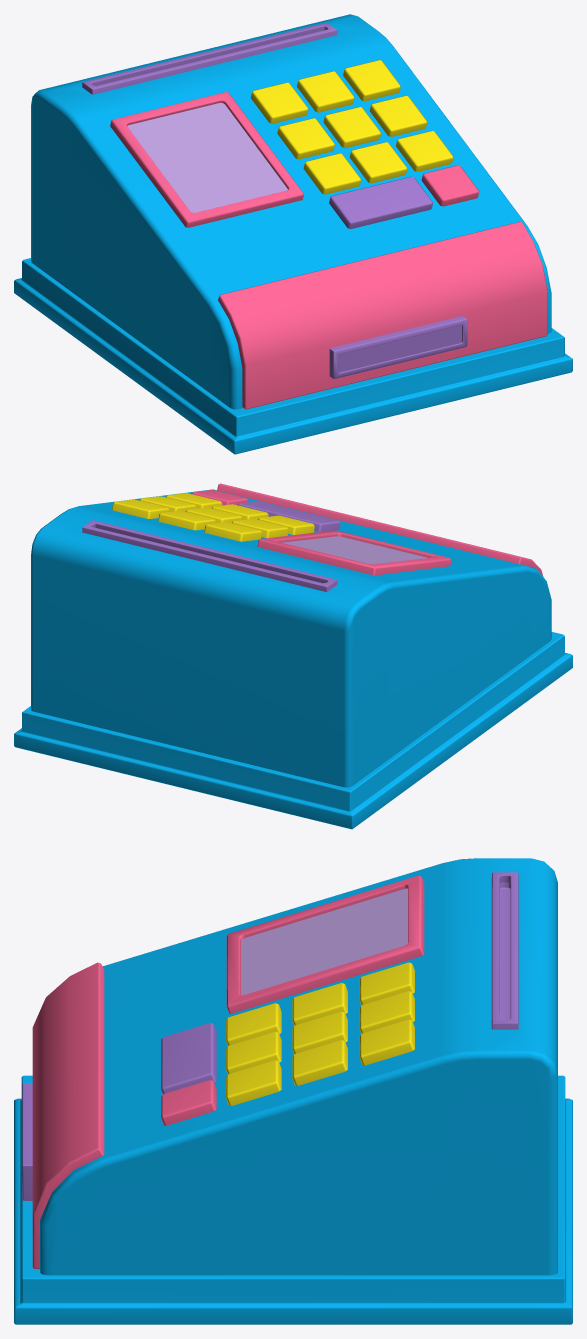
The model's file is Public_10_Payment_Terminal_1.glb.
The picture shows the model from 3 angles, top to bottom: view 1: azimuth 30°, elevation 25°; view 2: azimuth 150°, elevation 25°; view 3: azimuth 270°, elevation 25°; orthographic projection. The views are drawn at different scales.
Visible parts, largest first — view 1: Public_10_Payment_Terminal_1; view 2: Public_10_Payment_Terminal_1; view 3: Public_10_Payment_Terminal_1.
Part boxes in pixels (box(x1,y1,x2,y2)): Public_10_Payment_Terminal_1: box(14, 14, 572, 454); Public_10_Payment_Terminal_1: box(14, 483, 572, 829); Public_10_Payment_Terminal_1: box(14, 858, 572, 1324).
Size of the model in its own units: 2.72 by 1.65 by 3.07.
Materials: 1 (1 with a texture image).
